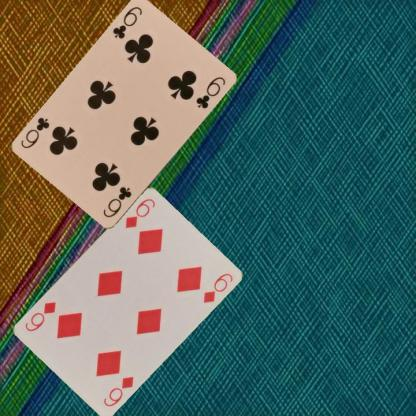6c: (110, 4, 144, 41), (100, 184, 133, 220)
6d: (122, 196, 156, 230), (101, 373, 135, 407)
